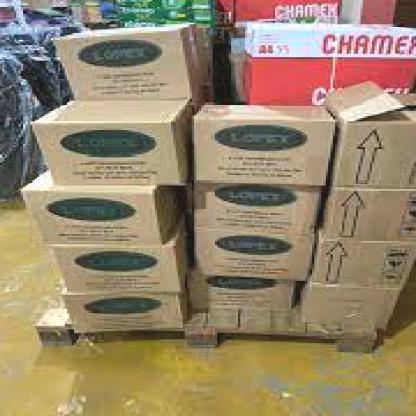box: (30, 99, 190, 188), (187, 102, 335, 187), (49, 24, 209, 101), (21, 170, 178, 247), (333, 85, 414, 191), (192, 227, 319, 284), (49, 243, 190, 294), (189, 182, 326, 233), (314, 234, 414, 293), (298, 278, 407, 330), (58, 290, 192, 332), (187, 269, 303, 311), (326, 188, 414, 243)
